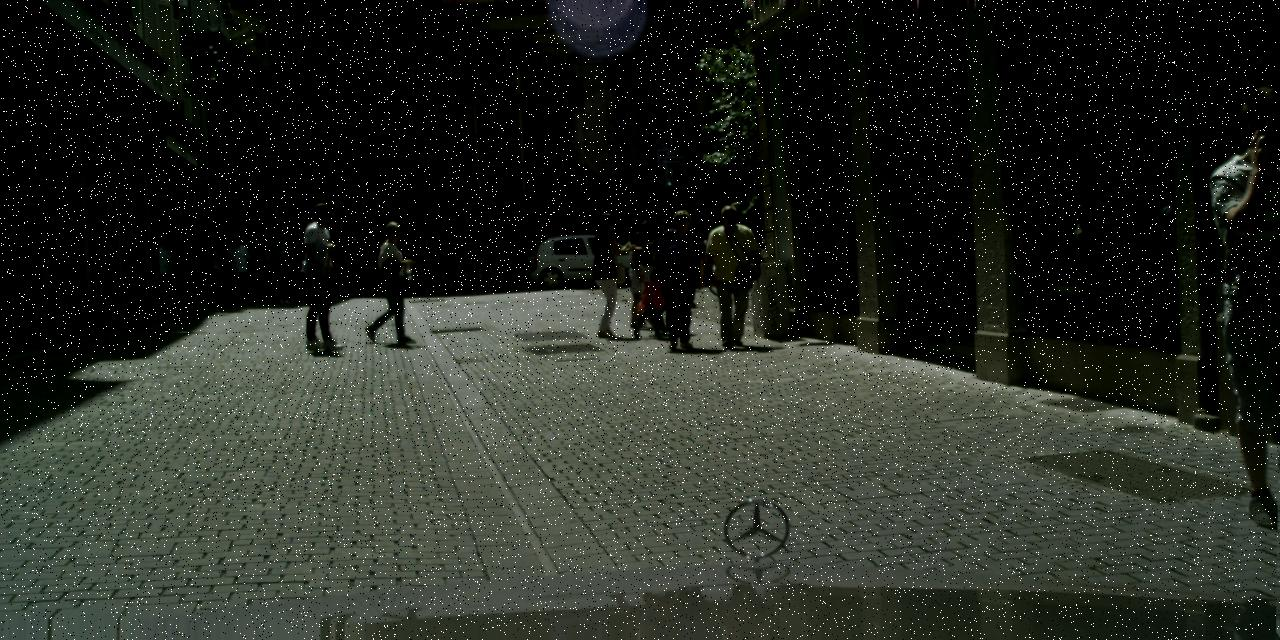ped: (1179, 86, 1279, 526), (291, 202, 351, 350), (701, 205, 760, 346), (652, 210, 708, 348), (626, 198, 680, 328), (583, 212, 633, 336), (365, 220, 415, 342), (618, 231, 658, 326), (630, 242, 669, 336), (266, 230, 295, 302), (224, 235, 252, 302), (258, 237, 284, 302), (342, 237, 366, 296), (203, 240, 226, 298), (358, 241, 381, 295)
